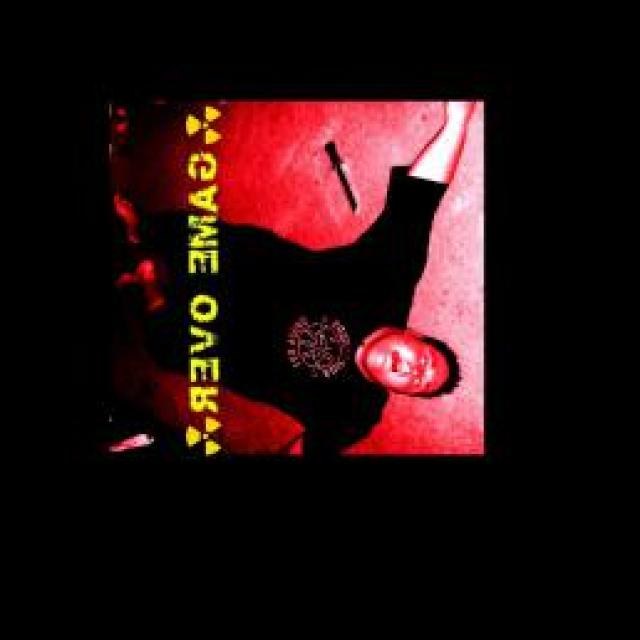knife: (325, 134, 362, 219)
